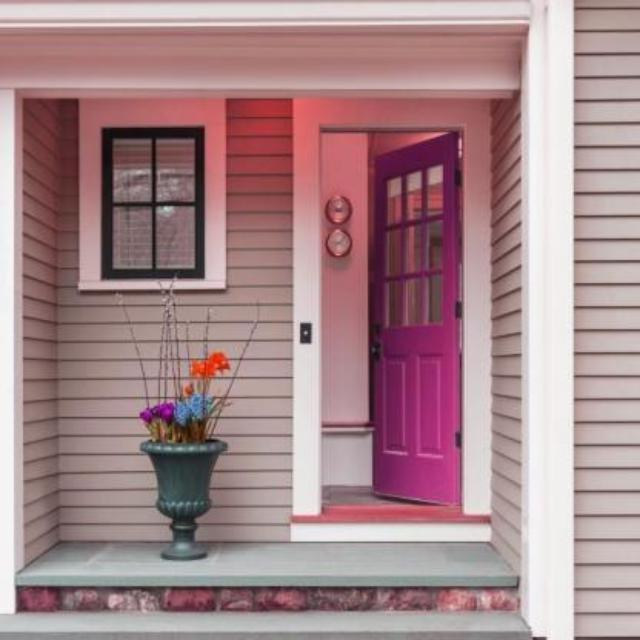door: (369, 131, 462, 506)
